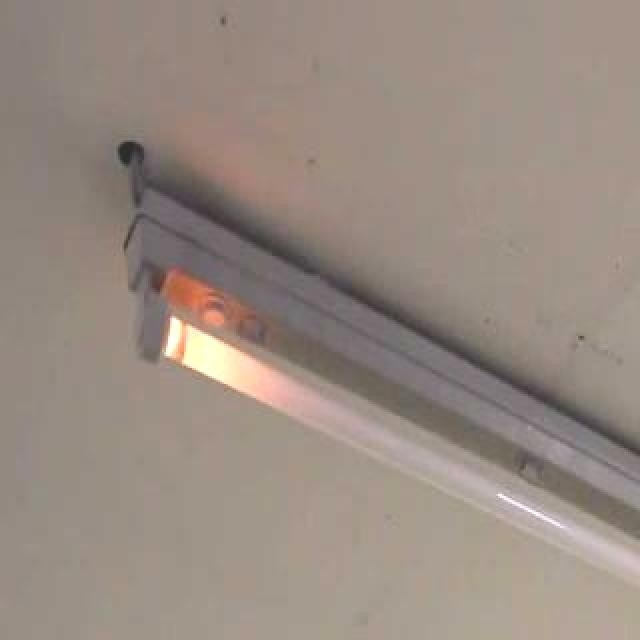fluorescent tube: (80, 140, 640, 640)
